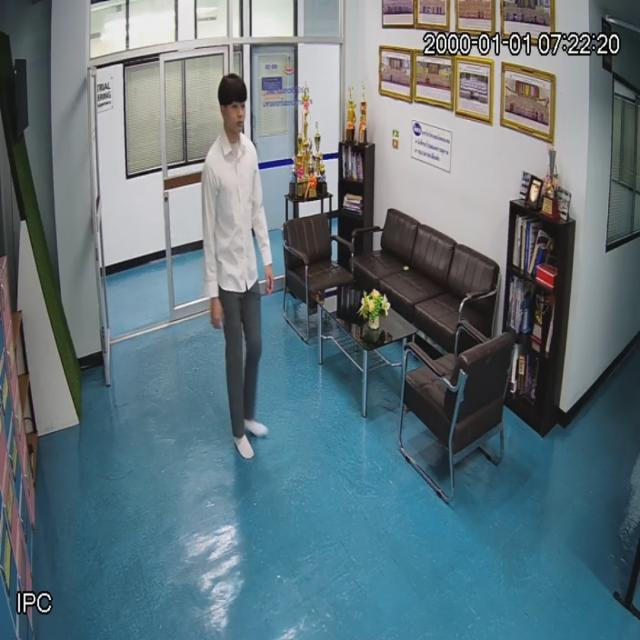normal: (203, 71, 277, 464)
